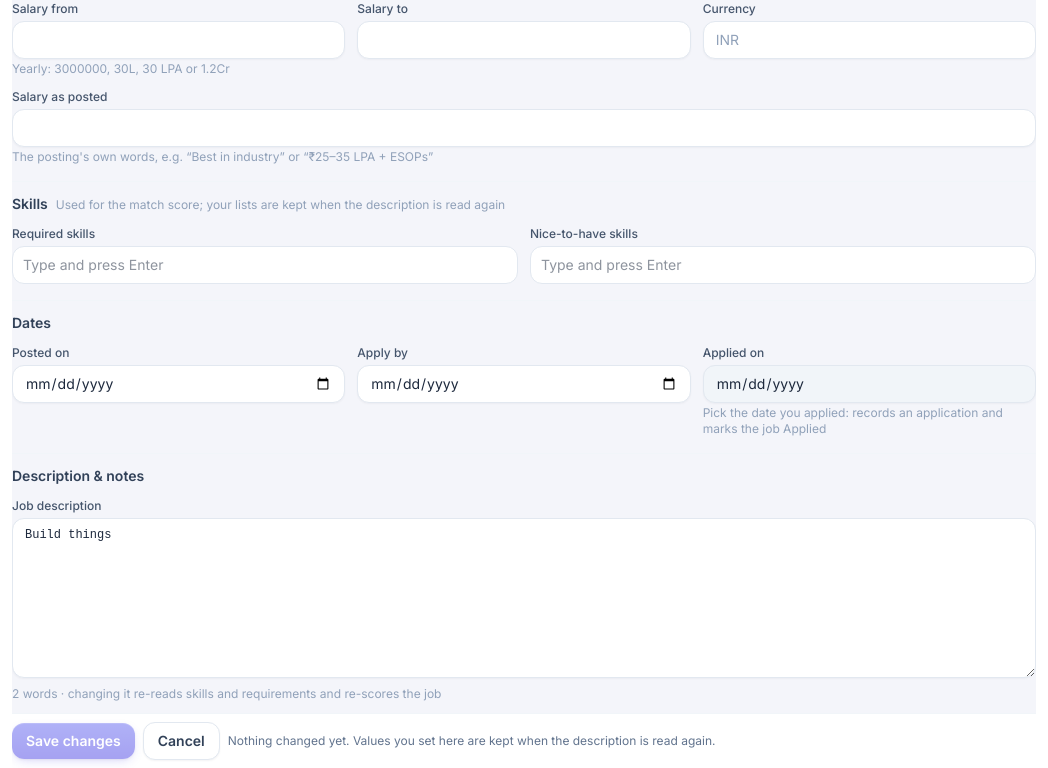
Test: EditJob › refuses a future applied date
(page scrolled)
Type "2999-01-01" into the date field labelled "Applied on" at (869, 384), box [703, 365, 1036, 403]
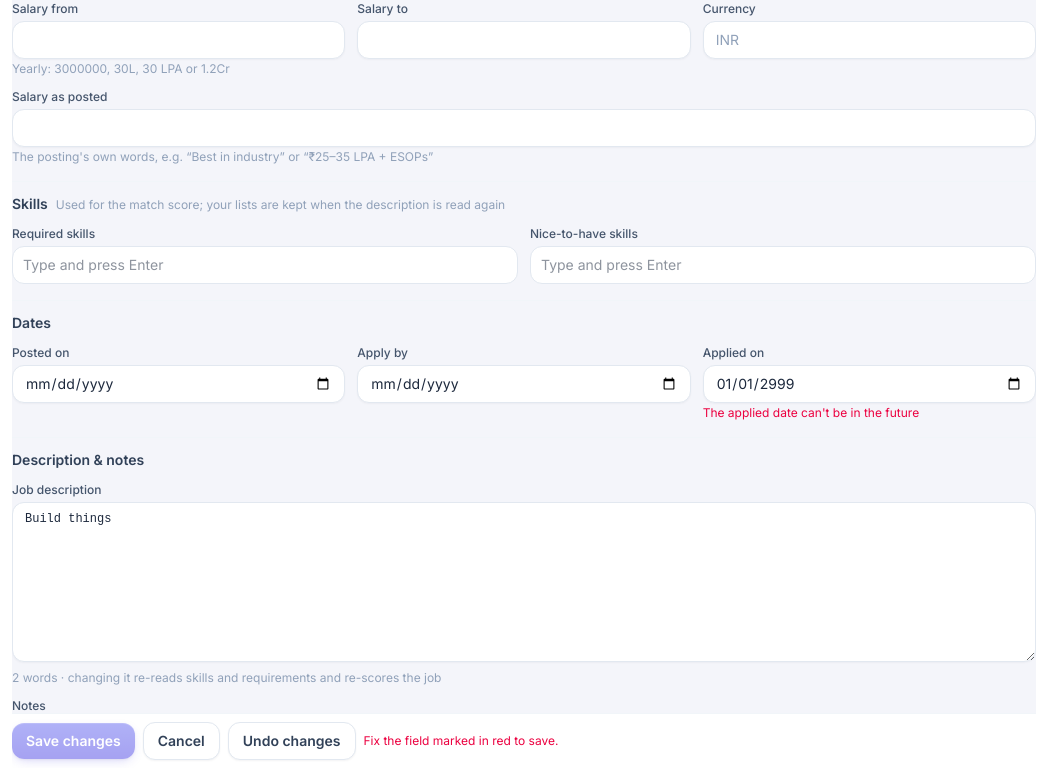
Expected: the button "Save changes" is disabled, [12, 723, 135, 759]
Expected: the text "The applied date can't be in the future" is shown, [703, 405, 919, 420]
